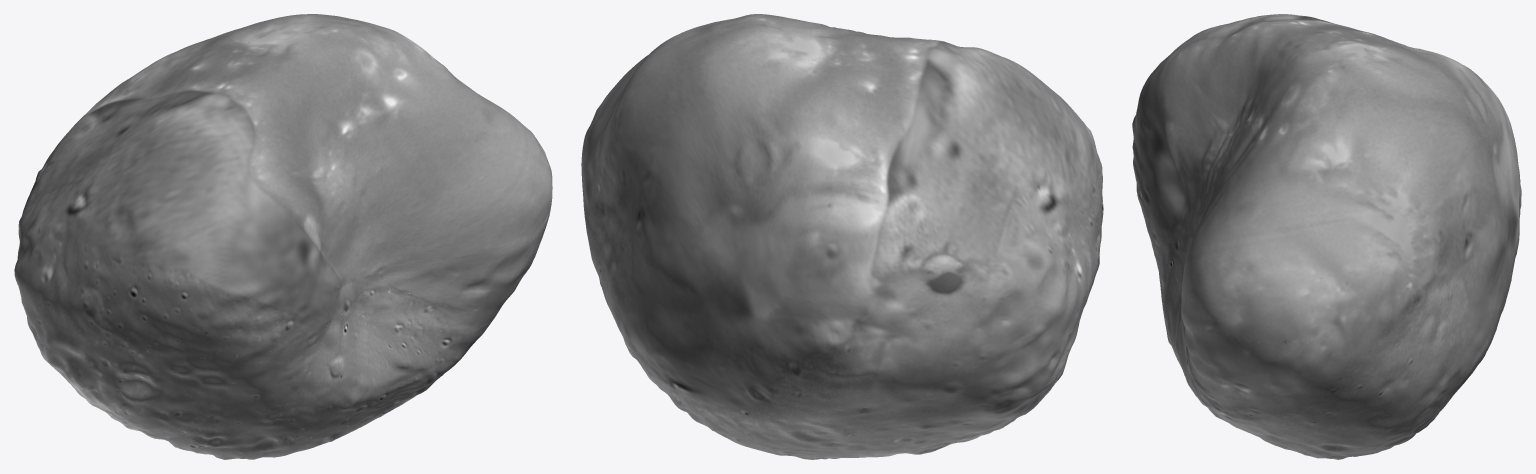
Rendered from deimos.glb.
The picture shows the model from 3 angles, left to right: view 1: azimuth 30°, elevation 25°; view 2: azimuth 150°, elevation 25°; view 3: azimuth 270°, elevation 25°; orthographic projection. The views are drawn at different scales.
Visible parts, largest first — view 1: Deimos; view 2: Deimos; view 3: Deimos.
Part boxes in pixels (x1,y1,x2,y2): Deimos: [14, 14, 552, 459]; Deimos: [581, 14, 1103, 459]; Deimos: [1132, 14, 1521, 459].
Size of the model in its own units: 1543 by 1226 by 1081.
Materials: 1 (1 with a texture image).
